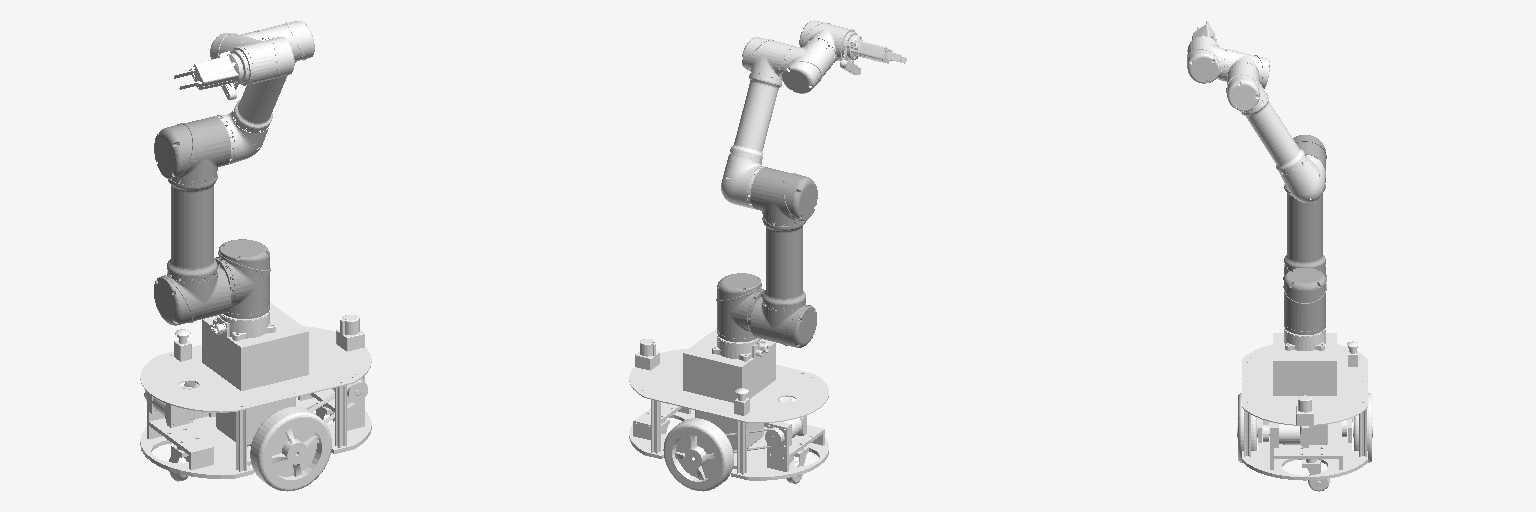
--- Facts derived from the render (not from the file) ---
The picture shows the robot from 3 angles, left to right: view 1: azimuth 30°, elevation 25°; view 2: azimuth 150°, elevation 25°; view 3: azimuth 270°, elevation 25°; orthographic projection.
Model agv_arm3 with 21 links and 20 joints (6 revolute, 6 continuous, 2 prismatic, 6 fixed), rooted at base_link, posed every joint at zero.
Links seen in each view (by area): view 1: base_link, link2, pc_link, right_link, link3, link1, link5, end_Link, arm_base_link, lidar_link, link4; view 2: base_link, link2, link3, pc_link, left_link, link1, link4, link5, arm_base_link, end_Link, lidar_link; view 3: base_link, link3, pc_link, link2, link1, link5, link4, arm_base_link, right_link, left_link.
Boxes of the visible links, x1=… form: base_link: x1=140, y1=326, x2=371, y2=478; link2: x1=154, y1=116, x2=231, y2=325; pc_link: x1=202, y1=303, x2=308, y2=390; right_link: x1=250, y1=407, x2=331, y2=491; link3: x1=215, y1=21, x2=314, y2=164; link1: x1=214, y1=239, x2=270, y2=318; link5: x1=231, y1=37, x2=294, y2=85; end_Link: x1=192, y1=51, x2=242, y2=89; arm_base_link: x1=211, y1=310, x2=275, y2=340; lidar_link: x1=336, y1=315, x2=364, y2=351; link4: x1=210, y1=31, x2=264, y2=59; base_link: x1=629, y1=349, x2=828, y2=480; link2: x1=750, y1=167, x2=817, y2=347; link3: x1=721, y1=37, x2=795, y2=208; pc_link: x1=683, y1=328, x2=775, y2=402; left_link: x1=663, y1=418, x2=733, y2=491; link1: x1=716, y1=273, x2=764, y2=341; link4: x1=782, y1=40, x2=833, y2=93; link5: x1=799, y1=20, x2=857, y2=62; arm_base_link: x1=712, y1=334, x2=768, y2=361; end_Link: x1=846, y1=35, x2=892, y2=63; lidar_link: x1=635, y1=339, x2=659, y2=370; base_link: x1=1242, y1=344, x2=1367, y2=480; link3: x1=1226, y1=63, x2=1325, y2=202; pc_link: x1=1273, y1=333, x2=1336, y2=395; link2: x1=1283, y1=135, x2=1326, y2=281; link1: x1=1283, y1=268, x2=1326, y2=334; link5: x1=1187, y1=36, x2=1226, y2=83; link4: x1=1220, y1=49, x2=1269, y2=88; arm_base_link: x1=1284, y1=327, x2=1325, y2=350; right_link: x1=1237, y1=393, x2=1257, y2=462; left_link: x1=1353, y1=393, x2=1372, y2=462.
Bounding box of the posed robot: 0.6484 × 0.5201 × 1.21 m (x, y, z).
21 mesh visuals loaded from 21 distinct referenced files (21 binary STL).

The robot description file, URDF, robot "agv_arm3":
<?xml version="1.0" encoding="utf-8"?>
<!-- This URDF was automatically created by SolidWorks to URDF Exporter! Originally created by Stephen Brawner ([email redacted]) 
     Commit Version: 1.6.0-1-g15f4949  Build Version: 1.6.7594.29634
     For more information, please see http://wiki.ros.org/sw_urdf_exporter -->
<robot
  name="agv_arm3">
  <link
    name="base_link">
    <inertial>
      <origin
        xyz="-3.98803348314178E-05 -1.869040170992E-06 0.0698028354228421"
        rpy="0 0 0" />
      <mass
        value="5.35773748413165" />
      <inertia
        ixx="0.0416362082821188"
        ixy="0.00767908584961674"
        ixz="-9.57552739980786E-05"
        iyy="0.100983289572942"
        iyz="-1.3734878631137E-06"
        izz="0.111507828333827" />
    </inertial>
    <visual>
      <origin
        xyz="0 0 0"
        rpy="0 0 0" />
      <geometry>
        <mesh
          filename="package://agv_arm3/meshes/base_link.STL" />
      </geometry>
      <material
        name="">
        <color
          rgba="1 1 1 1" />
      </material>
    </visual>
    <collision>
      <origin
        xyz="0 0 0"
        rpy="0 0 0" />
      <geometry>
        <mesh
          filename="package://agv_arm3/meshes/base_link.STL" />
      </geometry>
    </collision>
  </link>
  <link
    name="left_link">
    <inertial>
      <origin
        xyz="-2.50330754389405E-11 -1.37628312670002E-07 -0.00348654268924592"
        rpy="0 0 0" />
      <mass
        value="1.04300354125074" />
      <inertia
        ixx="0.00314509586133882"
        ixy="9.39676616140868E-12"
        ixz="1.16375265117968E-08"
        iyy="0.00314527309348858"
        iyz="6.92877962504325E-11"
        izz="0.00586686223991632" />
    </inertial>
    <visual>
      <origin
        xyz="0 0 0"
        rpy="0 0 0" />
      <geometry>
        <mesh
          filename="package://agv_arm3/meshes/left_link.STL" />
      </geometry>
      <material
        name="">
        <color
          rgba="1 1 1 1" />
      </material>
    </visual>
    <collision>
      <origin
        xyz="0 0 0"
        rpy="0 0 0" />
      <geometry>
        <mesh
          filename="package://agv_arm3/meshes/left_link.STL" />
      </geometry>
    </collision>
  </link>
  <joint
    name="left_joint"
    type="continuous">
    <origin
      xyz="0 0.1645 0.0325"
      rpy="1.5707963267949 -0.0872664625997164 -3.14159265358979" />
    <parent
      link="base_link" />
    <child
      link="left_link" />
    <axis
      xyz="0 0 -1" />
    <limit
      lower="-1111"
      upper="1111"
      effort="100"
      velocity="10" />
  </joint>
  <link
    name="right_link">
    <inertial>
      <origin
        xyz="-2.50330325045345E-11 -1.37628312586735E-07 -0.00348654268924595"
        rpy="0 0 0" />
      <mass
        value="1.04300354125074" />
      <inertia
        ixx="0.00314509586133882"
        ixy="9.39676624272384E-12"
        ixz="1.16375265118808E-08"
        iyy="0.00314527309348858"
        iyz="6.92877958715914E-11"
        izz="0.00586686223991633" />
    </inertial>
    <visual>
      <origin
        xyz="0 0 0"
        rpy="0 0 0" />
      <geometry>
        <mesh
          filename="package://agv_arm3/meshes/right_link.STL" />
      </geometry>
      <material
        name="">
        <color
          rgba="1 1 1 1" />
      </material>
    </visual>
    <collision>
      <origin
        xyz="0 0 0"
        rpy="0 0 0" />
      <geometry>
        <mesh
          filename="package://agv_arm3/meshes/right_link.STL" />
      </geometry>
    </collision>
  </link>
  <joint
    name="right_joint"
    type="continuous">
    <origin
      xyz="0 -0.1645 0.0325"
      rpy="1.5707963267949 -0.0872664625997165 0" />
    <parent
      link="base_link" />
    <child
      link="right_link" />
    <axis
      xyz="0 0 -1" />
    <limit
      lower="-1111"
      upper="1111"
      effort="100"
      velocity="10" />
  </joint>
  <link
    name="lidar_link">
    <inertial>
      <origin
        xyz="-0.000296153234356333 1.12814554343044E-09 -0.0254717812660583"
        rpy="0 0 0" />
      <mass
        value="0.131588919004453" />
      <inertia
        ixx="7.14622431639145E-05"
        ixy="3.31963504257286E-12"
        ixz="8.65350822889394E-07"
        iyy="7.23109738477126E-05"
        iyz="-2.47141580506267E-12"
        izz="4.46765670225822E-05" />
    </inertial>
    <visual>
      <origin
        xyz="0 0 0"
        rpy="0 0 0" />
      <geometry>
        <mesh
          filename="package://agv_arm3/meshes/lidar_link.STL" />
      </geometry>
      <material
        name="">
        <color
          rgba="1 1 1 1" />
      </material>
    </visual>
    <collision>
      <origin
        xyz="0 0 0"
        rpy="0 0 0" />
      <geometry>
        <mesh
          filename="package://agv_arm3/meshes/lidar_link.STL" />
      </geometry>
    </collision>
  </link>
  <joint
    name="lidar_joint"
    type="fixed">
    <origin
      xyz="0.250826797270742 0 0.225842"
      rpy="0 0 0" />
    <parent
      link="base_link" />
    <child
      link="lidar_link" />
    <axis
      xyz="0 0 0" />
  </joint>
  <link
    name="pwr_link">
    <inertial>
      <origin
        xyz="0.0149998736942567 -0.0149999861468908 -0.0302001764965297"
        rpy="0 0 0" />
      <mass
        value="0.0494933865550185" />
      <inertia
        ixx="2.25636591664424E-05"
        ixy="-1.57492033053765E-11"
        ixz="-1.92996311650402E-10"
        iyy="2.25635485506423E-05"
        iyz="1.88012265258888E-11"
        izz="6.57716485866471E-06" />
    </inertial>
    <visual>
      <origin
        xyz="0 0 0"
        rpy="0 0 0" />
      <geometry>
        <mesh
          filename="package://agv_arm3/meshes/pwr_link.STL" />
      </geometry>
      <material
        name="">
        <color
          rgba="1 1 1 1" />
      </material>
    </visual>
    <collision>
      <origin
        xyz="0 0 0"
        rpy="0 0 0" />
      <geometry>
        <mesh
          filename="package://agv_arm3/meshes/pwr_link.STL" />
      </geometry>
    </collision>
  </link>
  <joint
    name="pwr_joint"
    type="fixed">
    <origin
      xyz="-0.101416866011464 0.148460110886676 0.170842"
      rpy="3.14159265358979 0 3.14159265358979" />
    <parent
      link="base_link" />
    <child
      link="pwr_link" />
    <axis
      xyz="0 0 0" />
  </joint>
  <link
    name="pc_link">
    <inertial>
      <origin
        xyz="0.09 -0.09 -0.055"
        rpy="0 0 0" />
      <mass
        value="3.564" />
      <inertia
        ixx="0.0132165"
        ixy="-1.64022581511141E-18"
        ixz="1.20013749942464E-19"
        iyy="0.0132165"
        iyz="-7.92469639148251E-19"
        izz="0.0192456" />
    </inertial>
    <visual>
      <origin
        xyz="0 0 0"
        rpy="0 0 0" />
      <geometry>
        <mesh
          filename="package://agv_arm3/meshes/pc_link.STL" />
      </geometry>
      <material
        name="">
        <color
          rgba="1 1 1 1" />
      </material>
    </visual>
    <collision>
      <origin
        xyz="0 0 0"
        rpy="0 0 0" />
      <geometry>
        <mesh
          filename="package://agv_arm3/meshes/pc_link.STL" />
      </geometry>
    </collision>
  </link>
  <joint
    name="pc_joint"
    type="fixed">
    <origin
      xyz="0.0894403547066019 0.0899999999999996 0.170842"
      rpy="3.14159265358979 0 3.14159265358979" />
    <parent
      link="base_link" />
    <child
      link="pc_link" />
    <axis
      xyz="0 0 0" />
  </joint>
  <link
    name="arm_base_link">
    <inertial>
      <origin
        xyz="-0.00686650270088979 -6.3890516115404E-05 0.017933458218768"
        rpy="0 0 0" />
      <mass
        value="0.18628772741613" />
      <inertia
        ixx="0.000263033016433508"
        ixy="-1.46506892197407E-06"
        ixz="-2.45566831738087E-06"
        iyy="0.000319273280102255"
        iyz="3.39147302015336E-07"
        izz="0.000520691140482186" />
    </inertial>
    <visual>
      <origin
        xyz="0 0 0"
        rpy="0 0 0" />
      <geometry>
        <mesh
          filename="package://agv_arm3/meshes/arm_base_link.STL" />
      </geometry>
      <material
        name="">
        <color
          rgba="1 1 1 1" />
      </material>
    </visual>
    <collision>
      <origin
        xyz="0 0 0"
        rpy="0 0 0" />
      <geometry>
        <mesh
          filename="package://agv_arm3/meshes/arm_base_link.STL" />
      </geometry>
    </collision>
  </link>
  <joint
    name="arm_base_joint"
    type="fixed">
    <origin
      xyz="0.12 -0.0899999999999999 -0.11"
      rpy="3.14159265358979 0 3.14159265358979" />
    <parent
      link="pc_link" />
    <child
      link="arm_base_link" />
    <axis
      xyz="0 0 0" />
  </joint>
  <link
    name="link1">
    <inertial>
      <origin
        xyz="-0.0567169583181698 -0.00235564072122385 0.000138882700667187"
        rpy="0 0 0" />
      <mass
        value="1.61873888350504" />
      <inertia
        ixx="0.00293110308573468"
        ixy="-3.47507376011122E-05"
        ixz="3.8726154811313E-06"
        iyy="0.00435212480452608"
        iyz="-2.12678311648684E-07"
        izz="0.00438213463950221" />
    </inertial>
    <visual>
      <origin
        xyz="0 0 0"
        rpy="0 0 0" />
      <geometry>
        <mesh
          filename="package://agv_arm3/meshes/link1.STL" />
      </geometry>
      <material
        name="">
        <color
          rgba="0.752941176470588 0.752941176470588 0.752941176470588 1" />
      </material>
    </visual>
    <collision>
      <origin
        xyz="0 0 0"
        rpy="0 0 0" />
      <geometry>
        <mesh
          filename="package://agv_arm3/meshes/link1.STL" />
      </geometry>
    </collision>
  </link>
  <joint
    name="joint1"
    type="revolute">
    <origin
      xyz="0 -0.000105266487493887 0.0548561855519908"
      rpy="1.57079632679491 1.5707963267949 0" />
    <parent
      link="arm_base_link" />
    <child
      link="link1" />
    <axis
      xyz="-1 0 0" />
    <limit
      lower="-11"
      upper="11"
      effort="100"
      velocity="1" />
  </joint>
  <link
    name="link2">
    <inertial>
      <origin
        xyz="-0.0584429220414362 0.187149983529193 -4.31646231643023E-10"
        rpy="0 0 0" />
      <mass
        value="3.79194293522179" />
      <inertia
        ixx="0.120319358955817"
        ixy="4.02878593271949E-07"
        ixz="-3.54541158103531E-11"
        iyy="0.00991240275678066"
        iyz="-2.05377531487273E-05"
        izz="0.12318995186214" />
    </inertial>
    <visual>
      <origin
        xyz="0 0 0"
        rpy="0 0 0" />
      <geometry>
        <mesh
          filename="package://agv_arm3/meshes/link2.STL" />
      </geometry>
      <material
        name="">
        <color
          rgba="0.752941176470588 0.752941176470588 0.752941176470588 1" />
      </material>
    </visual>
    <collision>
      <origin
        xyz="0 0 0"
        rpy="0 0 0" />
      <geometry>
        <mesh
          filename="package://agv_arm3/meshes/link2.STL" />
      </geometry>
    </collision>
  </link>
  <joint
    name="joint2"
    type="revolute">
    <origin
      xyz="-0.0593438144480038 -0.0773990481265728 0.000105266487493693"
      rpy="0.000457884092179863 0 1.57079632679489" />
    <parent
      link="link1" />
    <child
      link="link2" />
    <axis
      xyz="-1 0 0" />
    <limit
      lower="-11"
      upper="11"
      effort="100"
      velocity="1" />
  </joint>
  <link
    name="link3">
    <inertial>
      <origin
        xyz="0.00327709945364583 0.115170432740346 -0.199911913218436"
        rpy="0 0 0" />
      <mass
        value="1.56495747304415" />
      <inertia
        ixx="0.0317713598448578"
        ixy="0.000579721784174367"
        ixz="-0.00100672595897069"
        iyy="0.0250891530022326"
        iyz="0.0127855093188886"
        izz="0.010261180566717" />
    </inertial>
    <visual>
      <origin
        xyz="0 0 0"
        rpy="0 0 0" />
      <geometry>
        <mesh
          filename="package://agv_arm3/meshes/link3.STL" />
      </geometry>
      <material
        name="">
        <color
          rgba="1 1 1 1" />
      </material>
    </visual>
    <collision>
      <origin
        xyz="0 0 0"
        rpy="0 0 0" />
      <geometry>
        <mesh
          filename="package://agv_arm3/meshes/link3.STL" />
      </geometry>
    </collision>
  </link>
  <joint
    name="joint3"
    type="revolute">
    <origin
      xyz="0.0776000000000131 0.374299999999998 0"
      rpy="-2.61707810980682 0 -3.14159265358979" />
    <parent
      link="link2" />
    <child
      link="link3" />
    <axis
      xyz="1 0 0" />
    <limit
      lower="-11"
      upper="11"
      effort="100"
      velocity="1" />
  </joint>
  <link
    name="link4">
    <inertial>
      <origin
        xyz="0.115612552836977 5.68599588126606E-05 -0.000182701670504132"
        rpy="0 0 0" />
      <mass
        value="0.840413041820024" />
      <inertia
        ixx="0.00159983275687532"
        ixy="-1.13064913108001E-06"
        ixz="3.84550144816514E-06"
        iyy="0.00154970394170128"
        iyz="0.000172861052907553"
        izz="0.000948735860596394" />
    </inertial>
    <visual>
      <origin
        xyz="0 0 0"
        rpy="0 0 0" />
      <geometry>
        <mesh
          filename="package://agv_arm3/meshes/link4.STL" />
      </geometry>
      <material
        name="">
        <color
          rgba="1 1 1 1" />
      </material>
    </visual>
    <collision>
      <origin
        xyz="0 0 0"
        rpy="0 0 0" />
      <geometry>
        <mesh
          filename="package://agv_arm3/meshes/link4.STL" />
      </geometry>
    </collision>
  </link>
  <joint
    name="joint4"
    type="revolute">
    <origin
      xyz="-0.00230000000000461 0.171227902195703 -0.297203643163503"
      rpy="-0.524056659690805 0 0" />
    <parent
      link="link3" />
    <child
      link="link4" />
    <axis
      xyz="-1 0 0" />
    <limit
      lower="-11"
      upper="11"
      effort="100"
      velocity="1" />
  </joint>
  <link
    name="link5">
    <inertial>
      <origin
        xyz="0.1156125766376 -7.95706803857765E-06 0.00019112698992832"
        rpy="0 0 0" />
      <mass
        value="0.840414945857114" />
      <inertia
        ixx="0.00159984314472574"
        ixy="1.07453200501053E-07"
        ixz="-4.00464194471819E-06"
        iyy="0.00159587157000826"
        iyz="-2.27692169341203E-07"
        izz="0.000902564205895203" />
    </inertial>
    <visual>
      <origin
        xyz="0 0 0"
        rpy="0 0 0" />
      <geometry>
        <mesh
          filename="package://agv_arm3/meshes/link5.STL" />
      </geometry>
      <material
        name="">
        <color
          rgba="1 1 1 1" />
      </material>
    </visual>
    <collision>
      <origin
        xyz="0 0 0"
        rpy="0 0 0" />
      <geometry>
        <mesh
          filename="package://agv_arm3/meshes/link5.STL" />
      </geometry>
    </collision>
  </link>
  <joint
    name="joint5"
    type="revolute">
    <origin
      xyz="0.117 -0.000594247621559019 0.00222189083181942"
      rpy="1.57079632679491 1.30945482308825 1.5707963267949" />
    <parent
      link="link4" />
    <child
      link="link5" />
    <axis
      xyz="-1 0 0" />
    <limit
      lower="-11"
      upper="11"
      effort="100"
      velocity="1" />
  </joint>
  <link
    name="link6">
    <inertial>
      <origin
        xyz="0.0015000000000005 -6.66133814775094E-16 0.0187669021540481"
        rpy="0 0 0" />
      <mass
        value="0.0100824945905106" />
      <inertia
        ixx="9.87586589022387E-06"
        ixy="3.34053306272289E-23"
        ixz="-2.53554448783418E-22"
        iyy="6.49518733073715E-06"
        iyz="7.30565917006813E-21"
        izz="3.39580230137249E-06" />
    </inertial>
    <visual>
      <origin
        xyz="0 0 0"
        rpy="0 0 0" />
      <geometry>
        <mesh
          filename="package://agv_arm3/meshes/link6.STL" />
      </geometry>
      <material
        name="">
        <color
          rgba="1 1 1 1" />
      </material>
    </visual>
    <collision>
      <origin
        xyz="0 0 0"
        rpy="0 0 0" />
      <geometry>
        <mesh
          filename="package://agv_arm3/meshes/link6.STL" />
      </geometry>
    </collision>
  </link>
  <joint
    name="joint6"
    type="revolute">
    <origin
      xyz="0.117000021796173 0 0.0682000217961732"
      rpy="0.682998608751051 -1.5707963267949 0" />
    <parent
      link="link5" />
    <child
      link="link6" />
    <axis
      xyz="-1 0 0" />
    <limit
      lower="-11"
      upper="11"
      effort="100"
      velocity="1" />
  </joint>
  <link
    name="d415_link">
    <inertial>
      <origin
        xyz="-8.8000818860845E-06 -0.0111114284341225 -0.00437437065673593"
        rpy="0 0 0" />
      <mass
        value="0.0164396902105074" />
      <inertia
        ixx="1.36518255800565E-06"
        ixy="-1.35811642181704E-11"
        ixz="1.86194819294529E-09"
        iyy="1.2970106416684E-05"
        iyz="-4.40746002933799E-08"
        izz="1.31174014911883E-05" />
    </inertial>
    <visual>
      <origin
        xyz="0 0 0"
        rpy="0 0 0" />
      <geometry>
        <mesh
          filename="package://agv_arm3/meshes/d415_link.STL" />
      </geometry>
      <material
        name="">
        <color
          rgba="1 1 1 1" />
      </material>
    </visual>
    <collision>
      <origin
        xyz="0 0 0"
        rpy="0 0 0" />
      <geometry>
        <mesh
          filename="package://agv_arm3/meshes/d415_link.STL" />
      </geometry>
    </collision>
  </link>
  <joint
    name="d415_joint"
    type="fixed">
    <origin
      xyz="0.0140000000000005 0 0.0435000000000011"
      rpy="-1.5707963267949 0 -1.5707963267949" />
    <parent
      link="link6" />
    <child
      link="d415_link" />
    <axis
      xyz="0 0 0" />
  </joint>
  <link
    name="end_Link">
    <inertial>
      <origin
        xyz="-0.0758044009170491 0.00118647369121061 0.000522320190807724"
        rpy="0 0 0" />
      <mass
        value="0.0741731632754536" />
      <inertia
        ixx="4.4731360450387E-05"
        ixy="6.86799798054487E-07"
        ixz="1.20712885235307E-07"
        iyy="9.53974122835655E-05"
        iyz="1.90401790083396E-09"
        izz="0.000106472259830389" />
    </inertial>
    <visual>
      <origin
        xyz="0 0 0"
        rpy="0 0 0" />
      <geometry>
        <mesh
          filename="package://agv_arm3/meshes/end_Link.STL" />
      </geometry>
      <material
        name="">
        <color
          rgba="1 1 1 1" />
      </material>
    </visual>
    <collision>
      <origin
        xyz="0 0 0"
        rpy="0 0 0" />
      <geometry>
        <mesh
          filename="package://agv_arm3/meshes/end_Link.STL" />
      </geometry>
    </collision>
  </link>
  <joint
    name="end_joint"
    type="fixed">
    <origin
      xyz="0.135610184391361 -0.00101183482587985 -0.000569241907415308"
      rpy="0 0 0" />
    <parent
      link="link6" />
    <child
      link="end_Link" />
    <axis
      xyz="0 0 0" />
  </joint>
  <link
    name="finger_link2">
    <inertial>
      <origin
        xyz="0.0187104737539547 -0.0153951860375232 -0.00037552077054534"
        rpy="0 0 0" />
      <mass
        value="0.00520135161584468" />
      <inertia
        ixx="1.83812760924895E-07"
        ixy="2.06102890915611E-08"
        ixz="2.81175606703091E-10"
        iyy="1.74961047766006E-06"
        iyz="7.48427007714497E-11"
        izz="1.69075281683774E-06" />
    </inertial>
    <visual>
      <origin
        xyz="0 0 0"
        rpy="0 0 0" />
      <geometry>
        <mesh
          filename="package://agv_arm3/meshes/finger_link2.STL" />
      </geometry>
      <material
        name="">
        <color
          rgba="1 1 1 1" />
      </material>
    </visual>
    <collision>
      <origin
        xyz="0 0 0"
        rpy="0 0 0" />
      <geometry>
        <mesh
          filename="package://agv_arm3/meshes/finger_link2.STL" />
      </geometry>
    </collision>
  </link>
  <joint
    name="finger_joint2"
    type="prismatic">
    <origin
      xyz="0 0 0"
      rpy="3.14159265358979 0 3.14159265358978" />
    <parent
      link="end_Link" />
    <child
      link="finger_link2" />
    <axis
      xyz="0 -1 0" />
    <limit
      lower="-0.1"
      upper="0.1"
      effort="1"
      velocity="1" />
  </joint>
  <link
    name="finger_link1">
    <inertial>
      <origin
        xyz="0.018710473753955 0.0170303895104813 -0.000368846804288586"
        rpy="0 0 0" />
      <mass
        value="0.00520135161584464" />
      <inertia
        ixx="1.83812760924894E-07"
        ixy="-2.06102890915284E-08"
        ixz="-2.81175606763185E-10"
        iyy="1.74961047766005E-06"
        iyz="7.48427007701638E-11"
        izz="1.69075281683773E-06" />
    </inertial>
    <visual>
      <origin
        xyz="0 0 0"
        rpy="0 0 0" />
      <geometry>
        <mesh
          filename="package://agv_arm3/meshes/finger_link1.STL" />
      </geometry>
      <material
        name="">
        <color
          rgba="1 1 1 1" />
      </material>
    </visual>
    <collision>
      <origin
        xyz="0 0 0"
        rpy="0 0 0" />
      <geometry>
        <mesh
          filename="package://agv_arm3/meshes/finger_link1.STL" />
      </geometry>
    </collision>
  </link>
  <joint
    name="finger_joint1"
    type="prismatic">
    <origin
      xyz="0 0 0"
      rpy="3.14159265358979 0 3.14159265358978" />
    <parent
      link="end_Link" />
    <child
      link="finger_link1" />
    <axis
      xyz="0 -1 0" />
    <limit
      lower="-0.1"
      upper="0.1"
      effort="1"
      velocity="1" />
  </joint>
  <link
    name="front_link1">
    <inertial>
      <origin
        xyz="0.004549387142184 -0.0150852596625734 -0.000170656801888464"
        rpy="0 0 0" />
      <mass
        value="0.0345006559491949" />
      <inertia
        ixx="2.12981416033921E-05"
        ixy="5.75050325361956E-06"
        ixz="-2.10334644735542E-08"
        iyy="1.14960917480254E-05"
        iyz="4.74056732758391E-08"
        izz="2.38494390827954E-05" />
    </inertial>
    <visual>
      <origin
        xyz="0 0 0"
        rpy="0 0 0" />
      <geometry>
        <mesh
          filename="package://agv_arm3/meshes/front_link1.STL" />
      </geometry>
      <material
        name="">
        <color
          rgba="1 1 1 1" />
      </material>
    </visual>
    <collision>
      <origin
        xyz="0 0 0"
        rpy="0 0 0" />
      <geometry>
        <mesh
          filename="package://agv_arm3/meshes/front_link1.STL" />
      </geometry>
    </collision>
  </link>
  <joint
    name="front_joint1"
    type="continuous">
    <origin
      xyz="0.20270815335595 0.0175 0.025"
      rpy="1.5707963267949 0 1.57903983732463" />
    <parent
      link="base_link" />
    <child
      link="front_link1" />
    <axis
      xyz="0 -1 0" />
    <limit
      lower="-1110"
      upper="1110"
      effort="101"
      velocity="11" />
  </joint>
  <link
    name="front_link2">
    <inertial>
      <origin
        xyz="-0.0125 -9.5024E-11 -6.9405E-08"
        rpy="0 0 0" />
      <mass
        value="0.068707" />
      <inertia
        ixx="2.9519E-05"
        ixy="-7.4221E-12"
        ixz="2.1262E-12"
        iyy="1.8316E-05"
        iyz="-1.3442E-12"
        izz="1.8315E-05" />
    </inertial>
    <visual>
      <origin
        xyz="0 0 0"
        rpy="0 0 0" />
      <geometry>
        <mesh
          filename="package://agv_arm3/meshes/front_link2.STL" />
      </geometry>
      <material
        name="">
        <color
          rgba="1 1 1 1" />
      </material>
    </visual>
    <collision>
      <origin
        xyz="0 0 0"
        rpy="0 0 0" />
      <geometry>
        <mesh
          filename="package://agv_arm3/meshes/front_link2.STL" />
      </geometry>
    </collision>
  </link>
  <joint
    name="front_joint2"
    type="continuous">
    <origin
      xyz="0.0210289002174015 -0.06 -0.0125352292752018"
      rpy="0 1.56255281626517 0" />
    <parent
      link="front_link1" />
    <child
      link="front_link2" />
    <axis
      xyz="1 0 0" />
    <limit
      lower="-1910"
      upper="1190"
      effort="111"
      velocity="11" />
  </joint>
  <link
    name="back_link1">
    <inertial>
      <origin
        xyz="0.00034634 0.0045478 -0.015085"
        rpy="0 0 0" />
      <mass
        value="0.034501" />
      <inertia
        ixx="2.385E-05"
        ixy="8.8978E-14"
        ixz="2.6532E-13"
        iyy="2.1298E-05"
        iyz="5.7507E-06"
        izz="1.1496E-05" />
    </inertial>
    <visual>
      <origin
        xyz="0 0 0"
        rpy="0 0 0" />
      <geometry>
        <mesh
          filename="package://agv_arm3/meshes/back_link1.STL" />
      </geometry>
      <material
        name="">
        <color
          rgba="1 1 1 1" />
      </material>
    </visual>
    <collision>
      <origin
        xyz="0 0 0"
        rpy="0 0 0" />
      <geometry>
        <mesh
          filename="package://agv_arm3/meshes/back_link1.STL" />
      </geometry>
    </collision>
  </link>
  <joint
    name="back_joint1"
    type="continuous">
    <origin
      xyz="-0.20285 -0.0175 0.025"
      rpy="0 0 0" />
    <parent
      link="base_link" />
    <child
      link="back_link1" />
    <axis
      xyz="0 0 -1" />
    <limit
      lower="-1110"
      upper="1110"
      effort="110"
      velocity="11" />
  </joint>
  <link
    name="back_link2">
    <inertial>
      <origin
        xyz="6.9405E-08 -9.5024E-11 -0.0125"
        rpy="0 0 0" />
      <mass
        value="0.068707" />
      <inertia
        ixx="1.8315E-05"
        ixy="1.3442E-12"
        ixz="-2.1262E-12"
        iyy="1.8316E-05"
        iyz="-7.4221E-12"
        izz="2.9519E-05" />
    </inertial>
    <visual>
      <origin
        xyz="0 0 0"
        rpy="0 0 0" />
      <geometry>
        <mesh
          filename="package://agv_arm3/meshes/back_link2.STL" />
      </geometry>
      <material
        name="">
        <color
          rgba="1 1 1 1" />
      </material>
    </visual>
    <collision>
      <origin
        xyz="0 0 0"
        rpy="0 0 0" />
      <geometry>
        <mesh
          filename="package://agv_arm3/meshes/back_link2.STL" />
      </geometry>
    </collision>
  </link>
  <joint
    name="back_joint2"
    type="continuous">
    <origin
      xyz="-0.012154 0.020925 -0.06"
      rpy="1.5708 0 -1.5708" />
    <parent
      link="back_link1" />
    <child
      link="back_link2" />
    <axis
      xyz="0 0 1" />
    <limit
      lower="-1110"
      upper="1110"
      effort="110"
      velocity="11" />
  </joint>
</robot>
